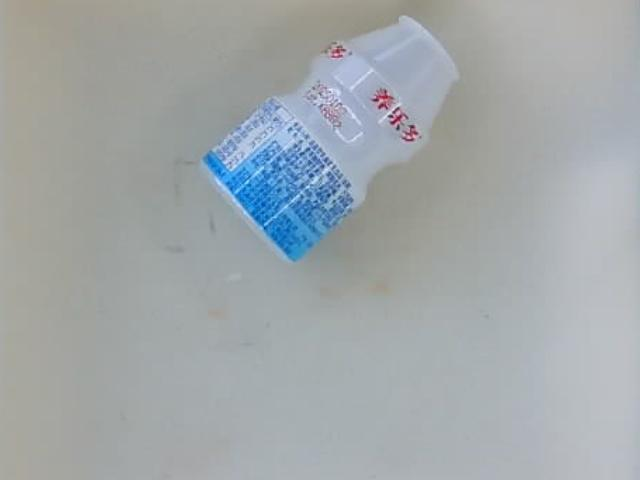Bottle: (198, 16, 460, 263)
